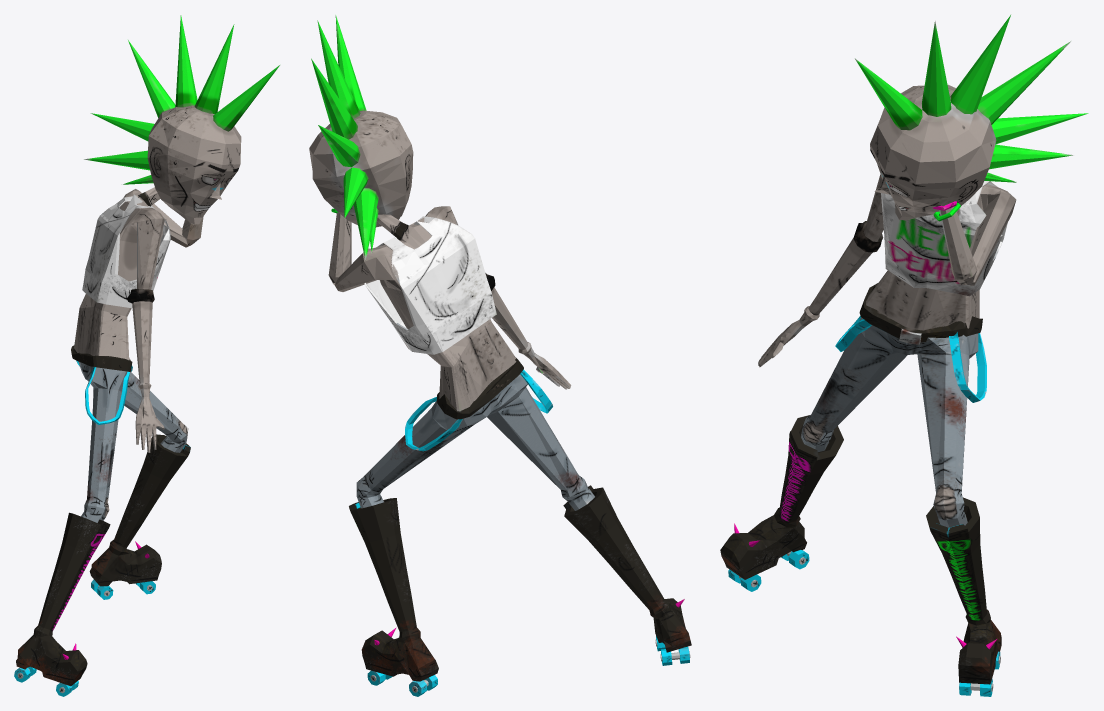
The model's file is punkAnimation_000048.obj.
The picture shows the model from 3 angles, left to right: view 1: azimuth 30°, elevation 25°; view 2: azimuth 150°, elevation 25°; view 3: azimuth 270°, elevation 25°; orthographic projection. The views are drawn at different scales.
Parts seen in each view (by area): view 1: Cube.004_Cube.003; view 2: Cube.004_Cube.003; view 3: Cube.004_Cube.003.
Boxes of the visible parts, x1,y1,x2,y2 form: Cube.004_Cube.003: (14,15,279,696); Cube.004_Cube.003: (309,15,691,696); Cube.004_Cube.003: (720,15,1088,696).
Bounding box in the file's own units: 3.64 × 6.69 × 3.11.
